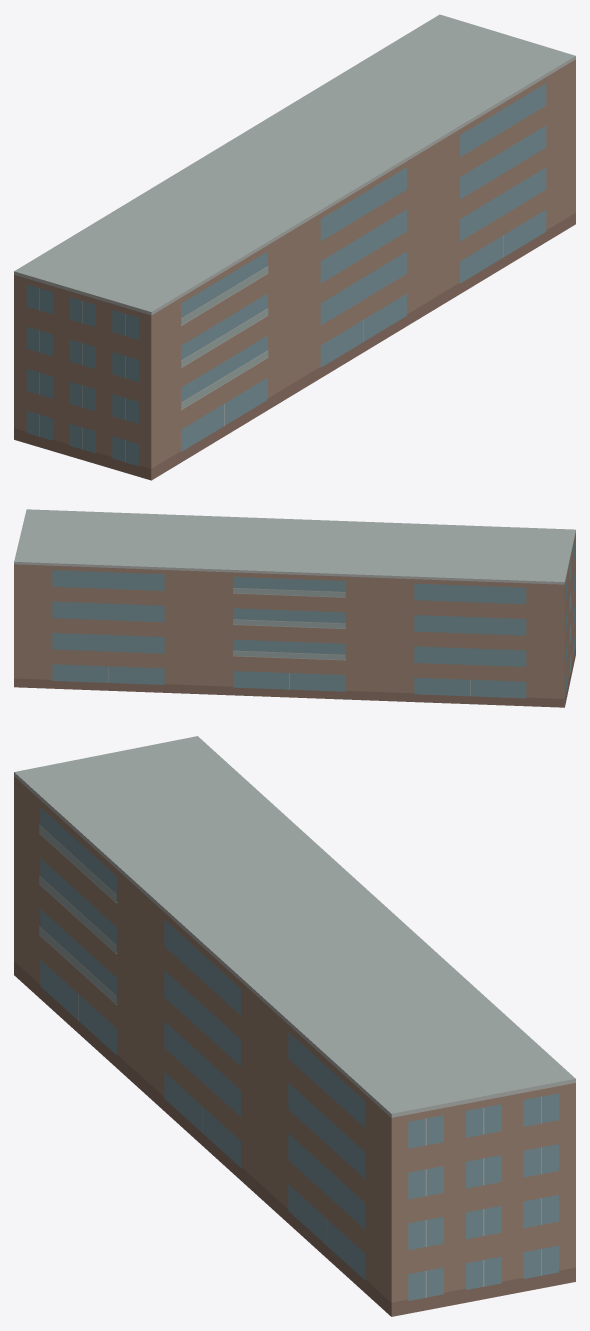
The model's file is survey-upis-32725177.glb.
3 views of the same model, one above another, from view 1: azimuth 30°, elevation 25°; view 2: azimuth 150°, elevation 25°; view 3: azimuth 270°, elevation 25° (orthographic). The views are drawn at different scales.
Parts seen in each view (by area): view 1: survey-upis-32725177.tmp; view 2: survey-upis-32725177.tmp; view 3: survey-upis-32725177.tmp.
Boxes of the visible parts, x1=… form: survey-upis-32725177.tmp: x1=14, y1=14, x2=575, y2=480; survey-upis-32725177.tmp: x1=14, y1=509, x2=575, y2=707; survey-upis-32725177.tmp: x1=14, y1=736, x2=575, y2=1316.
Size of the model in its own units: 48.7 by 12.2 by 30.6.
